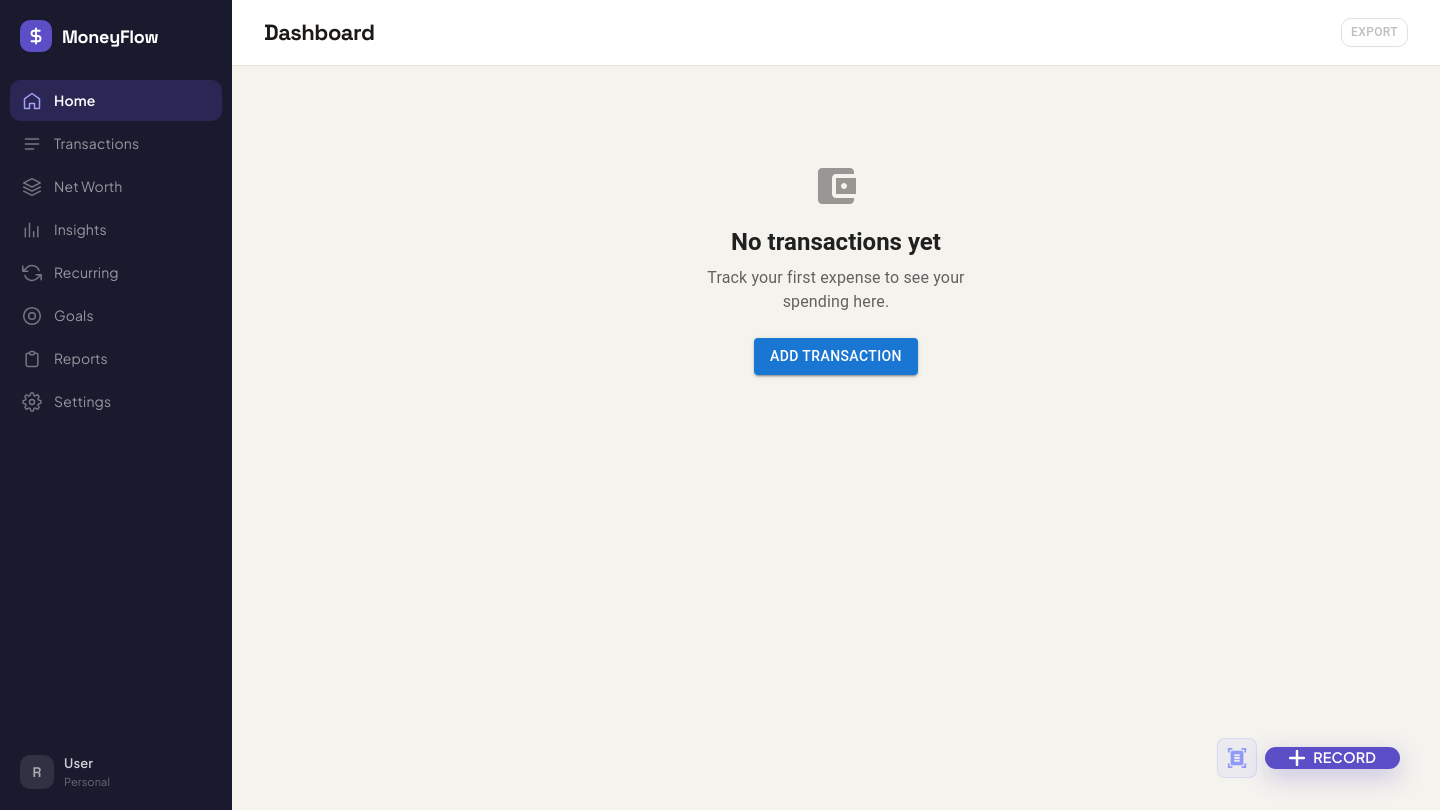
Test: Empty state on Transactions tab › shows onboarding empty state when no transactions exist
The image size is (1440, 810).
Click the button "Transactions" at (81, 144), box [22,134,139,154]
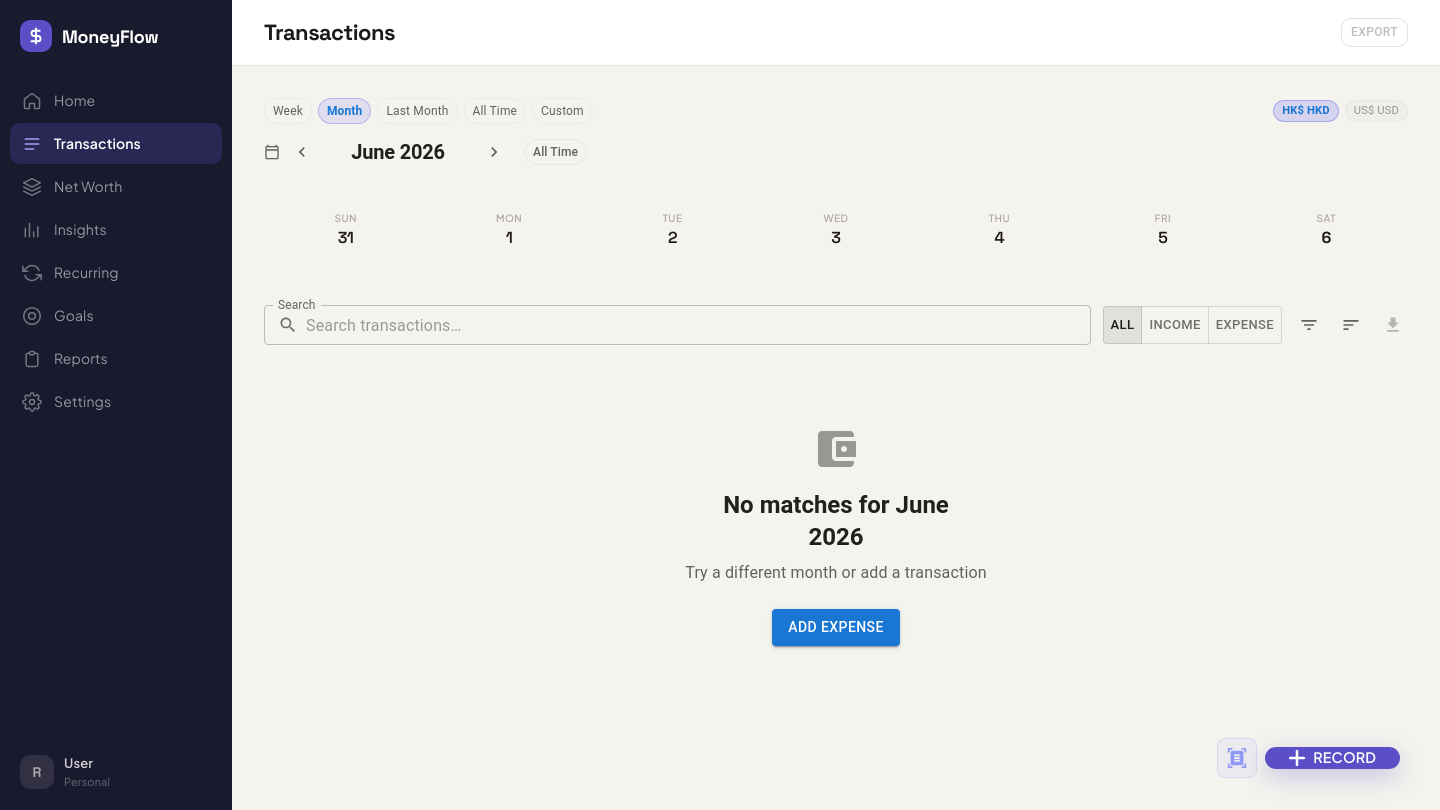
Expected: the heading "No matches for June 2026" is shown, [723,491,949,551]
Expected: the button "Add expense" is shown, [772,609,900,646]
